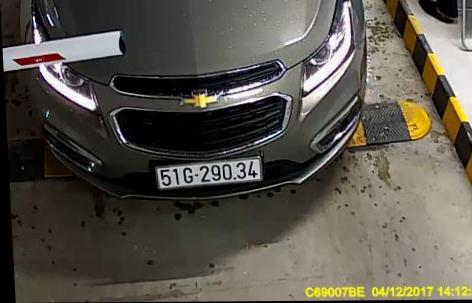License_Plate: (152, 157, 264, 190)
